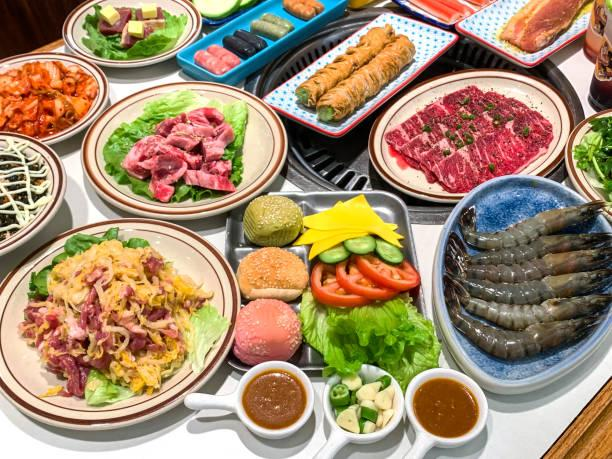Braised Crucian Carp: (0, 216, 238, 428), (430, 176, 610, 392), (222, 191, 419, 369), (80, 80, 278, 217), (369, 68, 572, 201), (1, 51, 109, 146), (62, 0, 201, 68)
